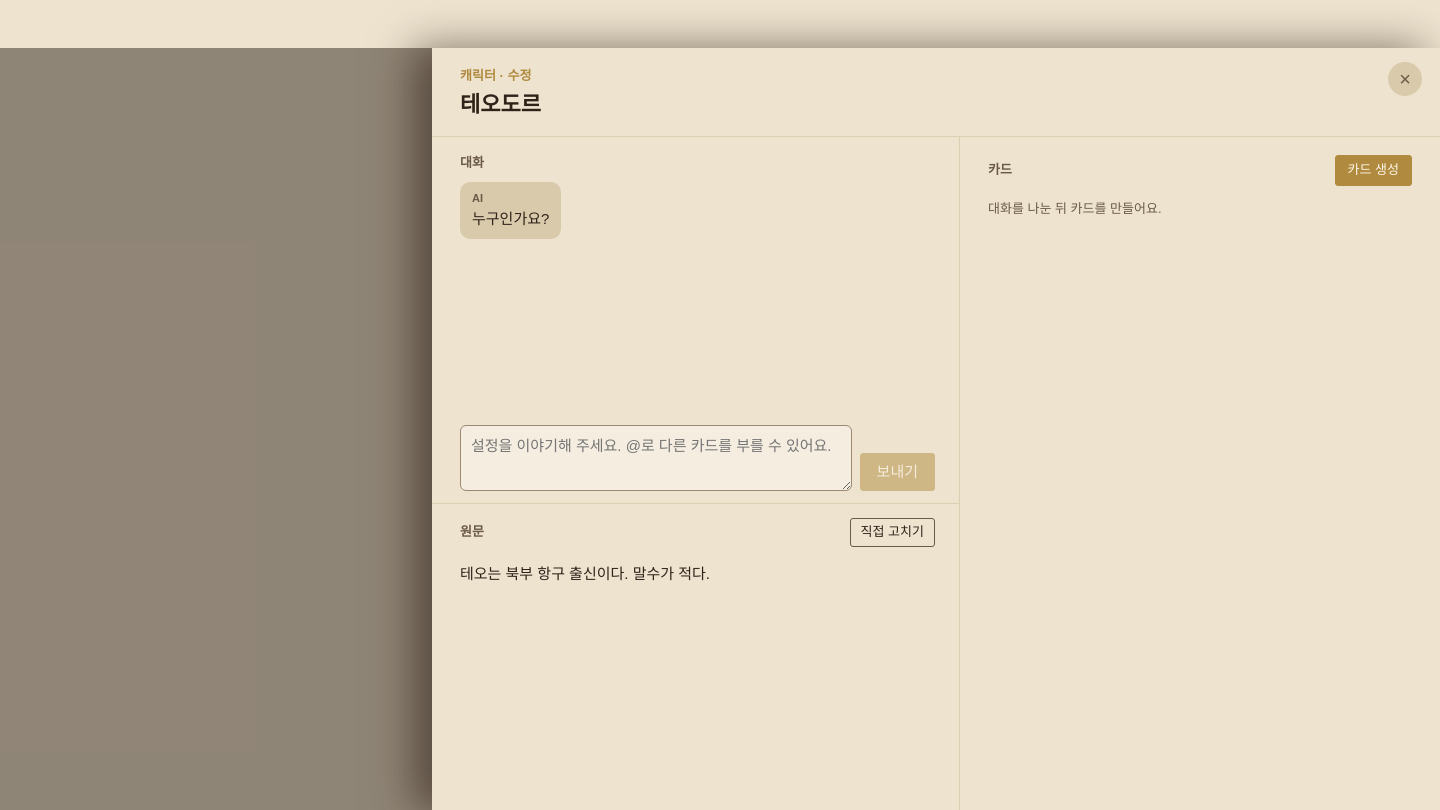
Scenario: editing shows only what changed, with the old value struck
Click the button "카드 생성".
click(1373, 170)  # box [1334,155,1412,186]
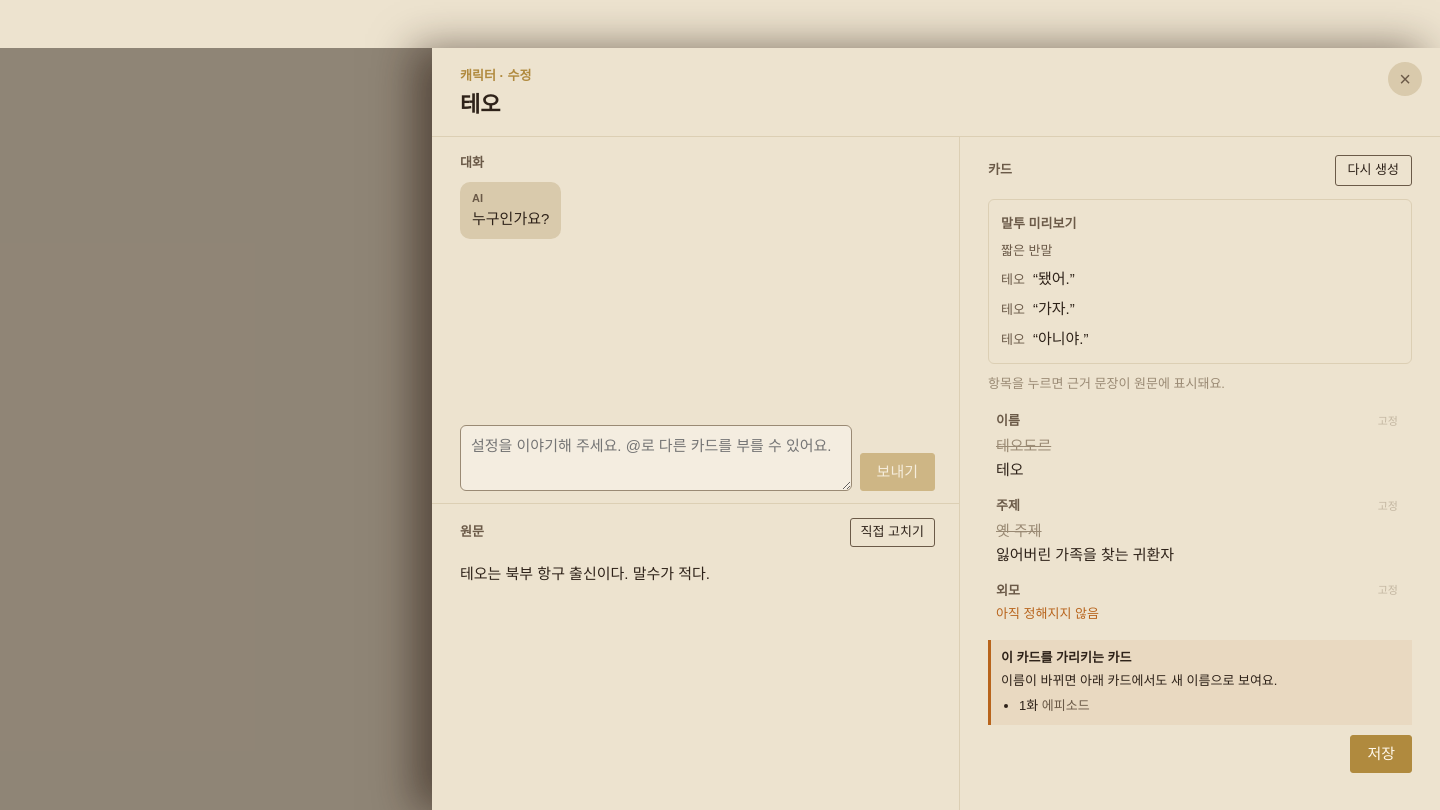
Expected: the button "저장" is shown, [1350,735,1412,773]
Expected: the heading "이 카드를 가리키는 카드" is shown, [1001,650,1131,665]
Expected: the list item "1화" is shown, [1019,698,1038,713]
